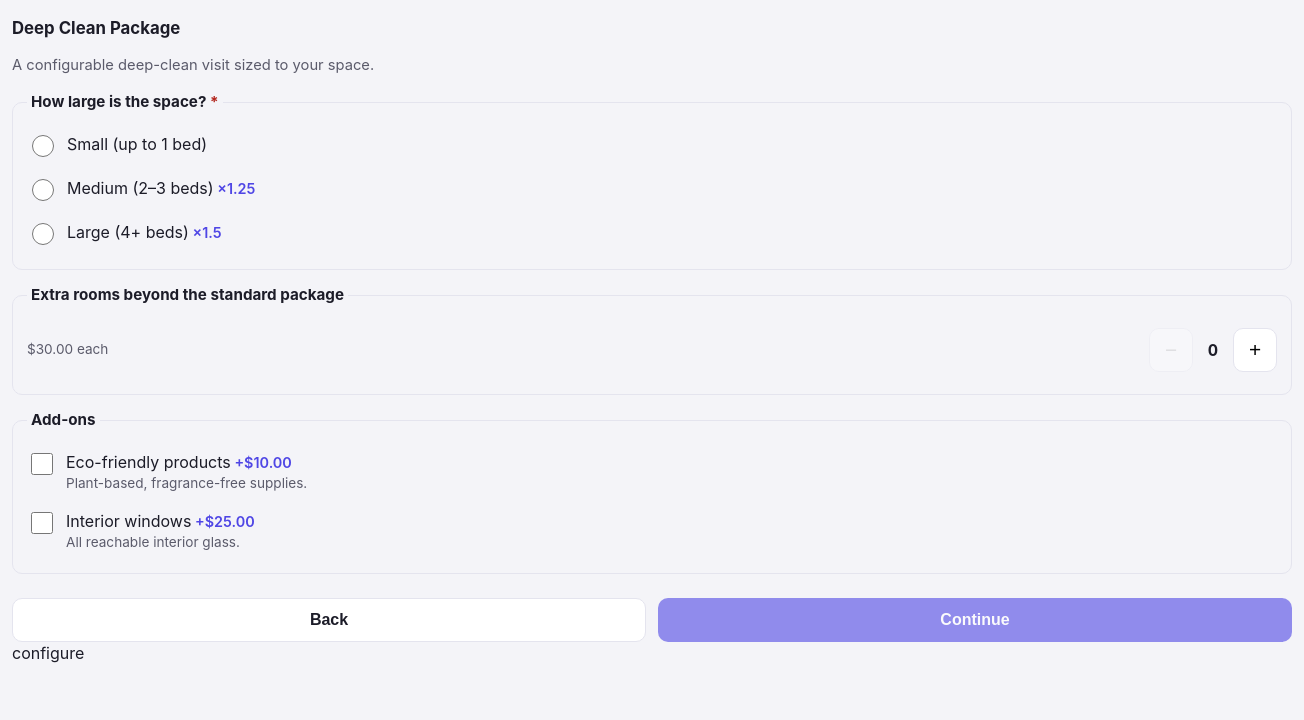
Test: Configurator › quantity stepper respects its max and min bounds
Later steps or results of the test are not shown.
Click the button named "Increase Extra rooms beyond the standard package" at [1255, 350], box 1233,328 -> 1277,372
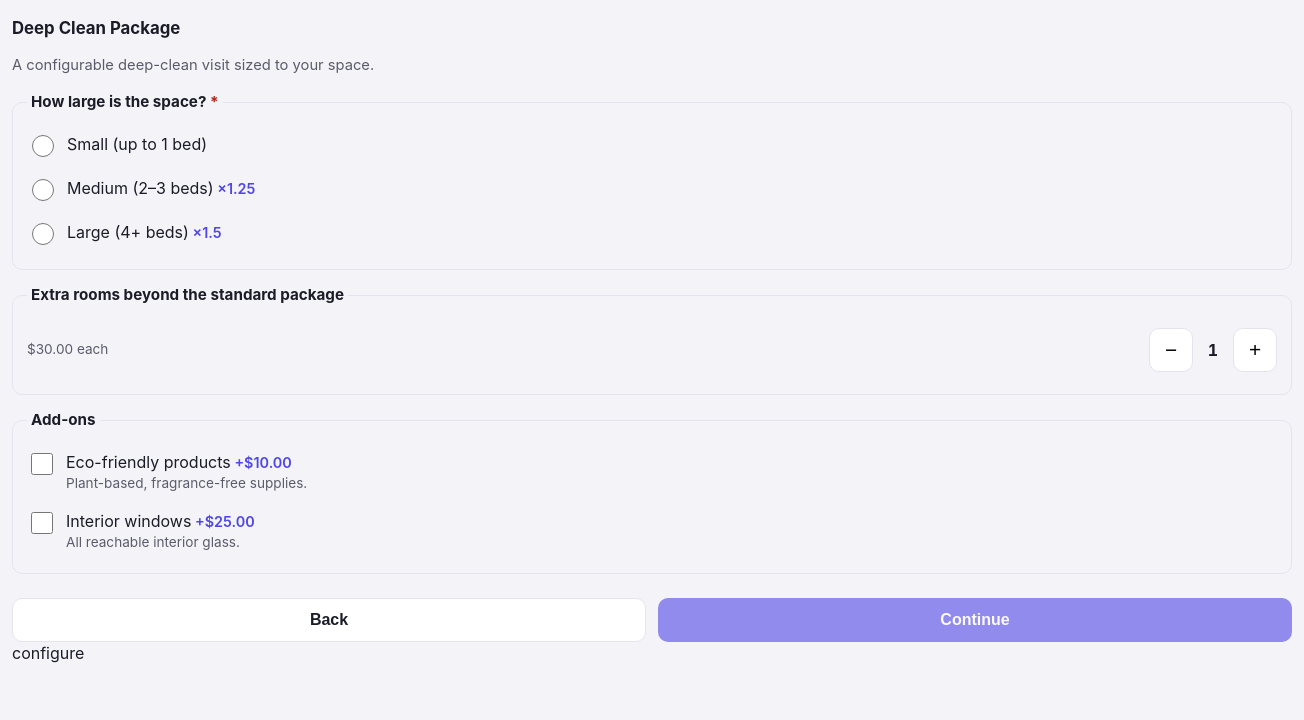
Click the button named "Increase Extra rooms beyond the standard package" at [1255, 350], box 1233,328 -> 1277,372
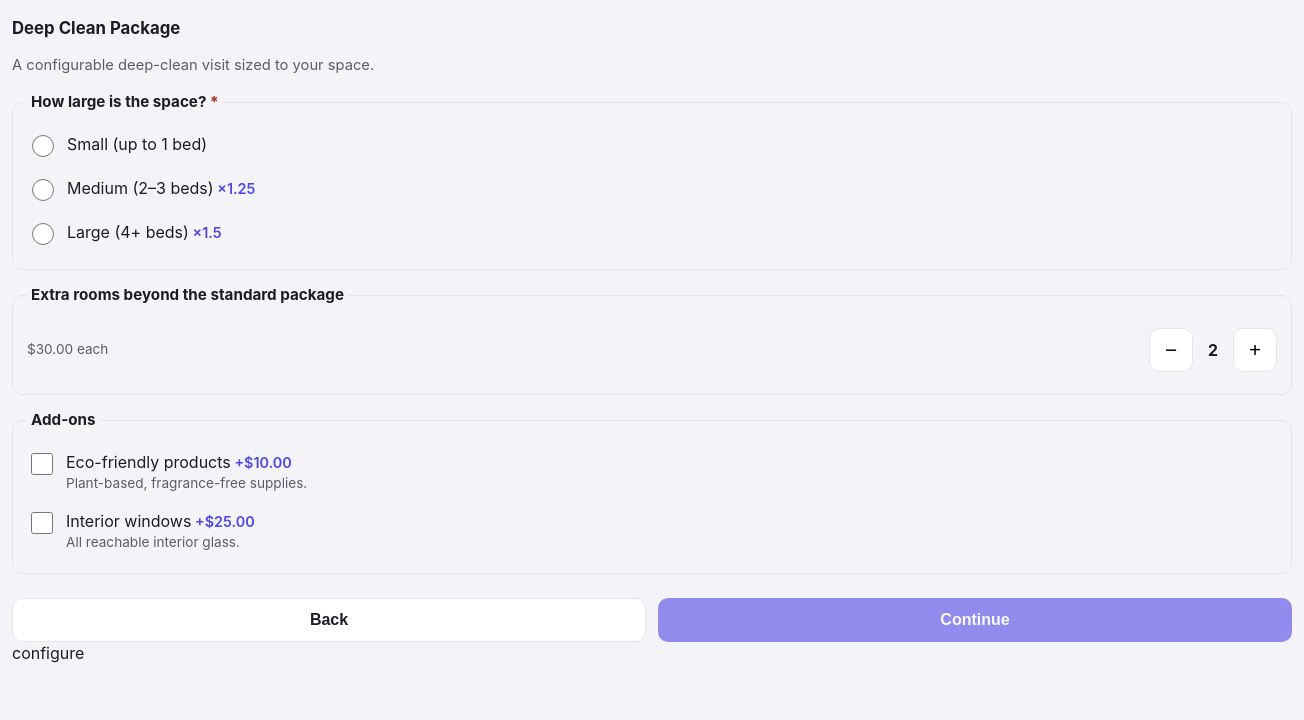
Click the button named "Increase Extra rooms beyond the standard package" at [1255, 350], box 1233,328 -> 1277,372
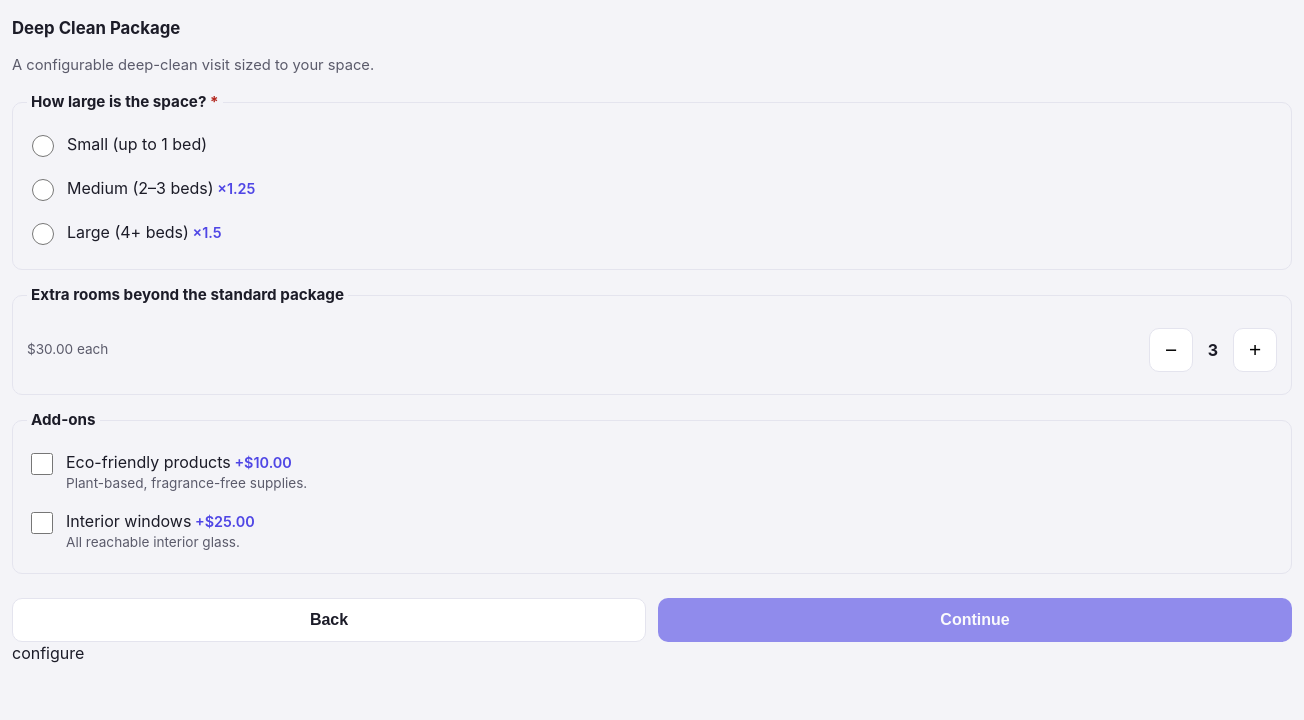
Click the button named "Increase Extra rooms beyond the standard package" at [1255, 350], box 1233,328 -> 1277,372
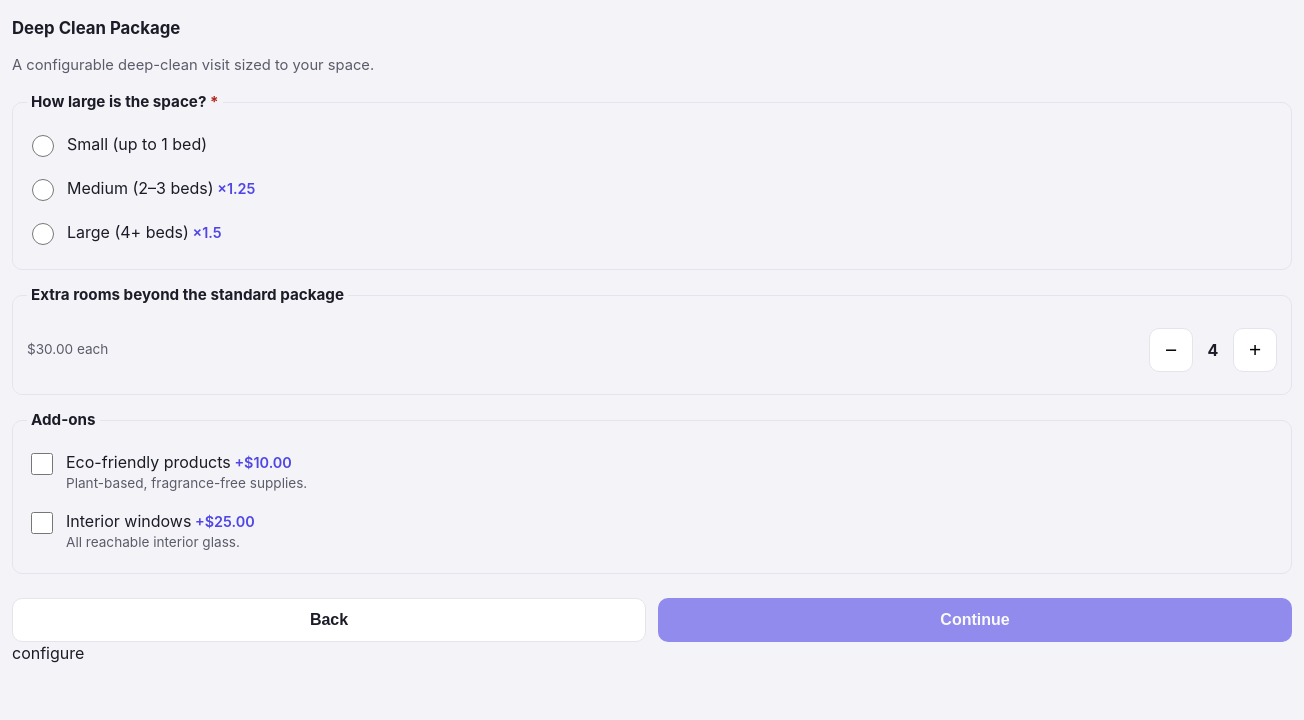
Click the button named "Increase Extra rooms beyond the standard package" at [1255, 350], box 1233,328 -> 1277,372
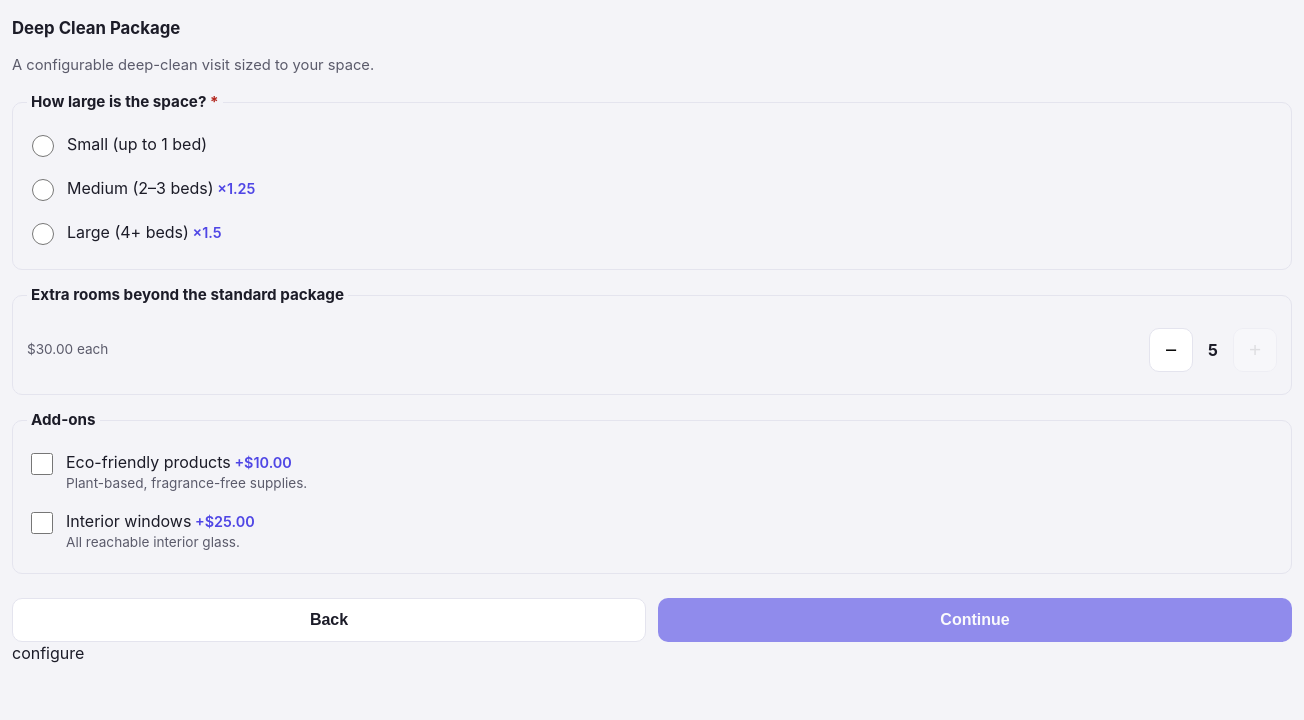
Now the button named "Increase Extra rooms beyond the standard package" is disabled, box 1233,328 -> 1277,372
